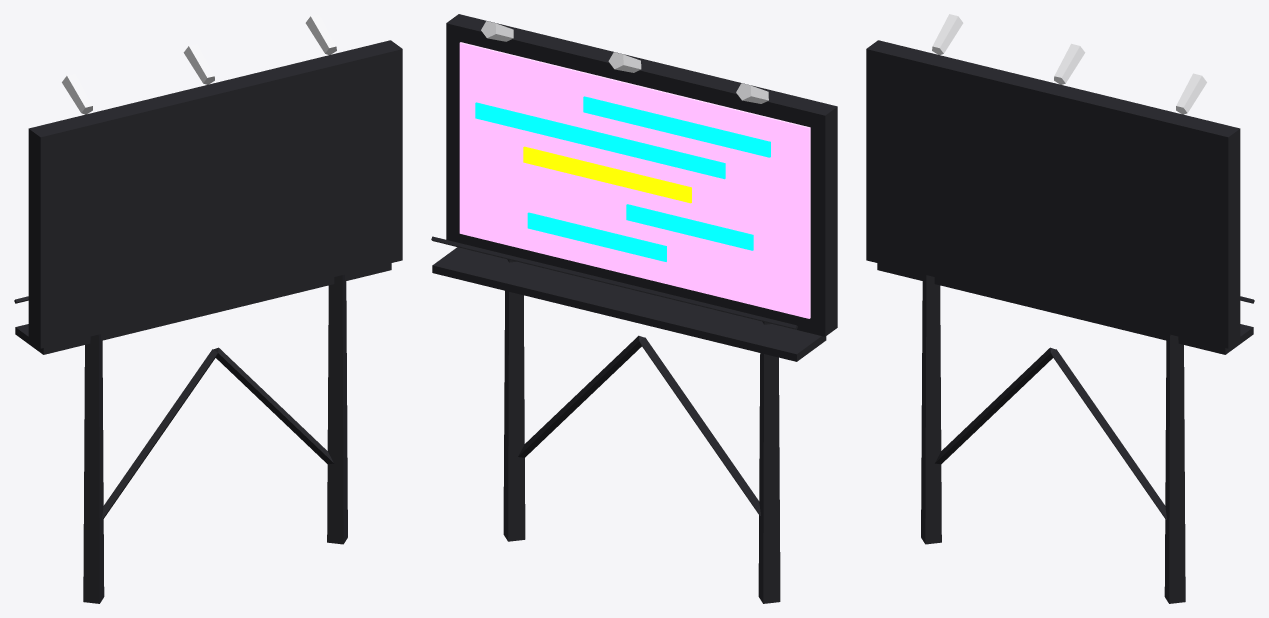
File: Prop_Billboard.fbx
3 views of the same model, side by side, from view 1: azimuth 30°, elevation 25°; view 2: azimuth 150°, elevation 25°; view 3: azimuth 330°, elevation 25° (orthographic). The views are drawn at different scales.
Visible parts, largest first — view 1: BB_Frame, BB_Leg-1, BB_Leg1, BB_Catwalk, BB_Brace-1, BB_Brace1, BB_Spot0, BB_Spot-1, BB_Spot1; view 2: BB_Screen, BB_Frame, BB_Catwalk, BB_Leg-1, BB_Leg1, BB_Glyph1, BB_Glyph0, BB_Glyph2, BB_Glyph4, BB_Glyph3, BB_Rail, BB_Brace-1 (+1 smaller); view 3: BB_Frame, BB_Leg1, BB_Leg-1, BB_Catwalk, BB_Brace1, BB_Brace-1, BB_Spot0, BB_Spot1, BB_Spot-1.
Part boxes in pixels (x1,y1,x2,y2): BB_Frame: (28,40,402,348); BB_Leg-1: (83,334,104,603); BB_Leg1: (327,274,347,544); BB_Catwalk: (15,263,391,354); BB_Brace-1: (102,349,217,519); BB_Brace1: (213,347,333,464); BB_Spot0: (183,43,214,84); BB_Spot-1: (62,73,92,114); BB_Spot1: (305,14,336,54); BB_Screen: (459,42,810,318); BB_Frame: (446,14,837,336); BB_Catwalk: (432,247,826,361); BB_Leg-1: (758,321,780,603); BB_Leg1: (503,259,525,541); BB_Glyph1: (475,102,725,179); BB_Glyph0: (583,96,770,157); BB_Glyph2: (523,146,691,203); BB_Glyph4: (527,212,666,261); BB_Glyph3: (626,204,753,250); BB_Rail: (431,236,797,329); BB_Brace-1: (639,337,760,515); BB_Frame: (866,40,1240,348); BB_Leg1: (1164,334,1185,603); BB_Leg-1: (921,274,941,544); BB_Catwalk: (877,263,1253,354); BB_Brace1: (1051,349,1166,519); BB_Brace-1: (935,347,1055,464); BB_Spot0: (1054,43,1085,84); BB_Spot1: (1176,73,1206,114); BB_Spot-1: (932,14,963,54).
Bounding box in the file's own units: 1.04 × 1.4 × 0.166.
